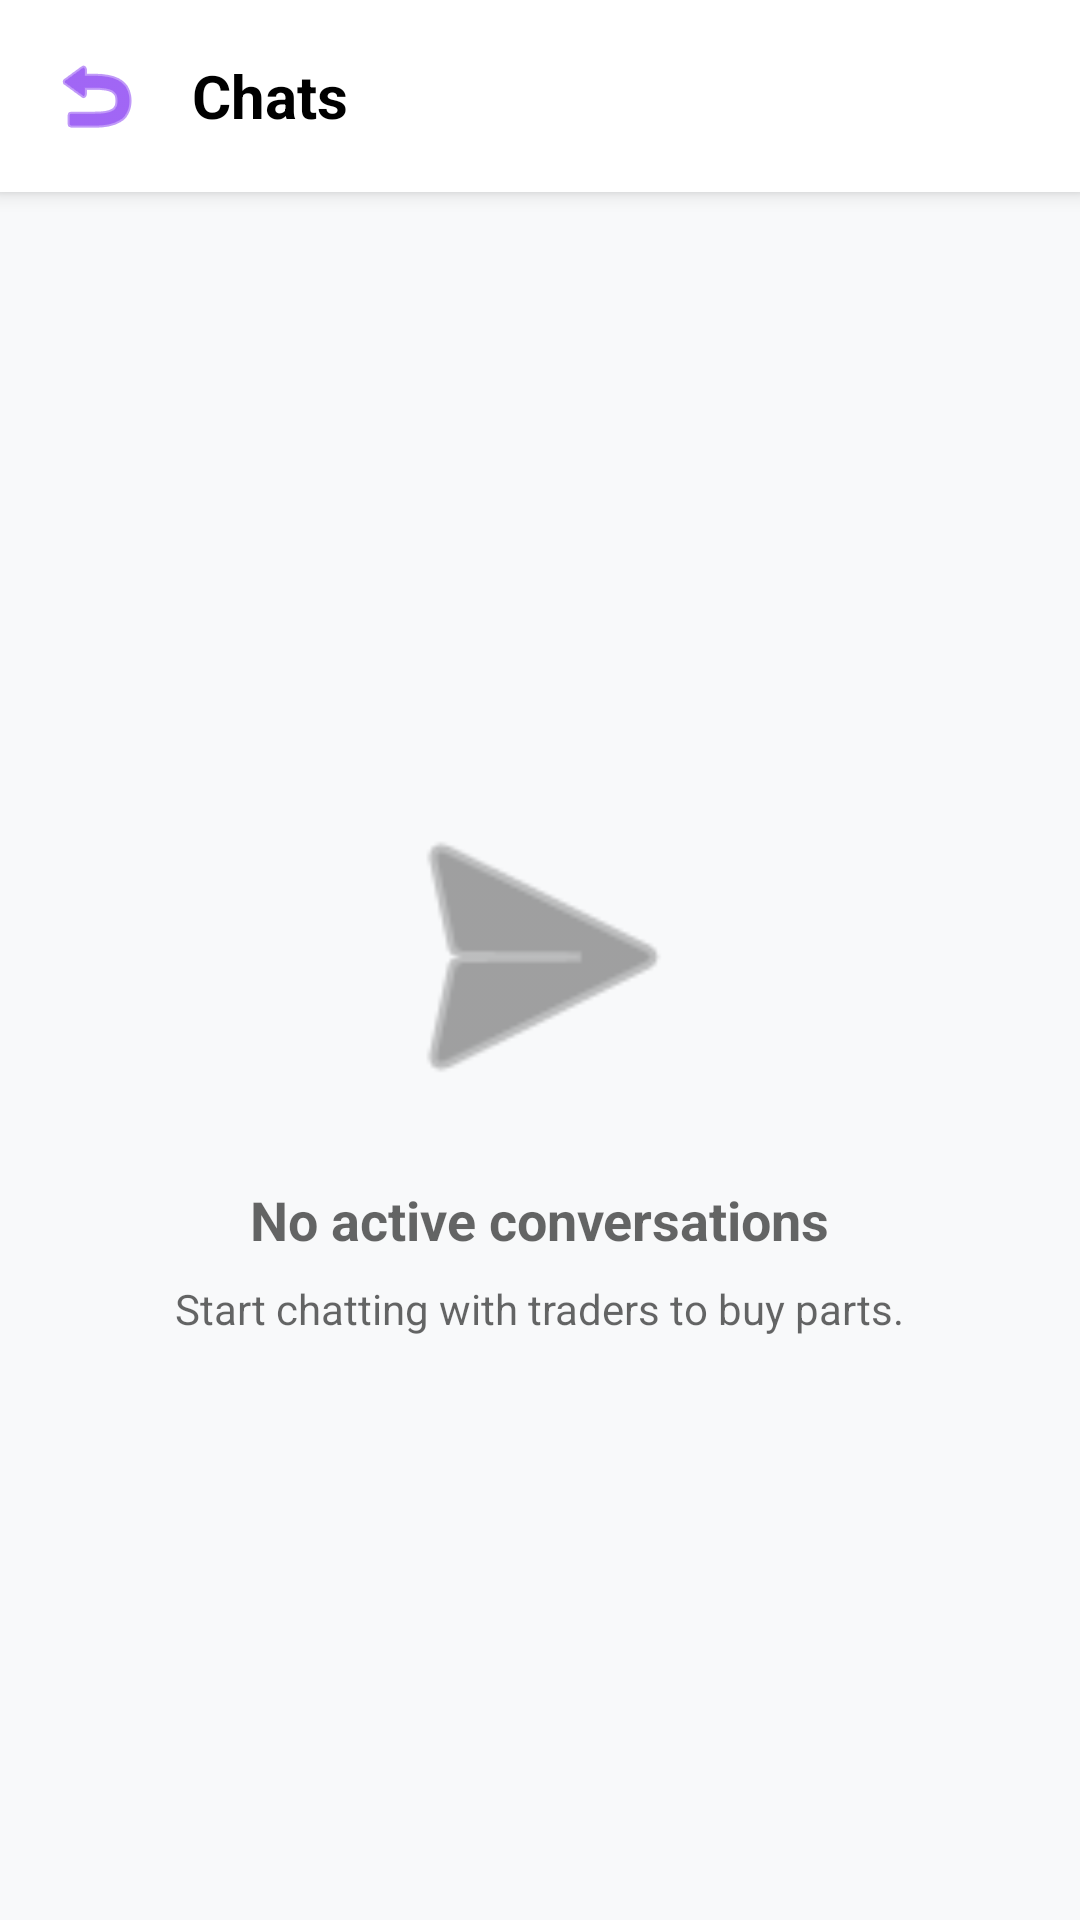

Icon bounding boxes for this 1080w x 1920h phone screenshot, format (x1, y1, x2, y2):
Back to Home: (63, 65, 132, 128)
